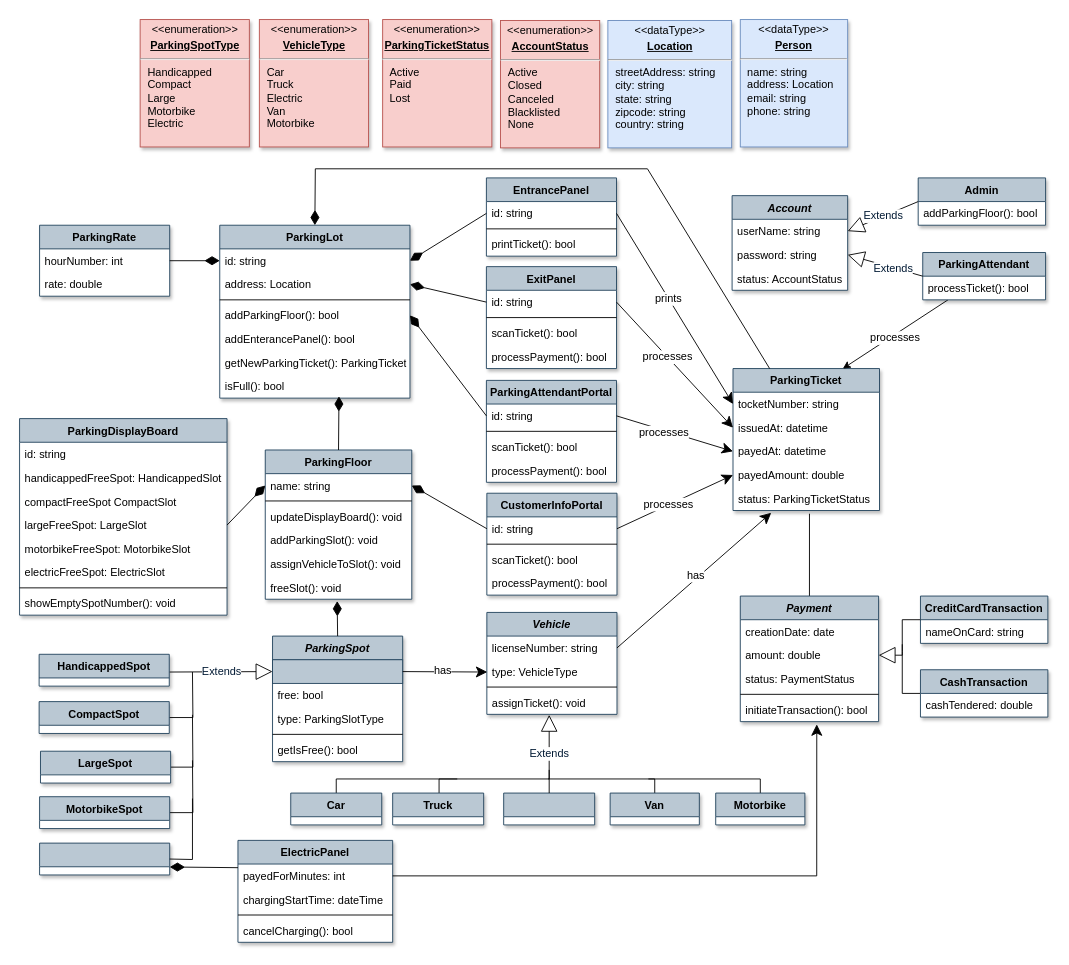
Image size: 1069x965. Some labels were removed from this diagram. The shapes that lost their labels are listed below. From the top down, each one's centre as x and y in pixels, then its label:
At (x=337, y=671): "number: string".
At (x=549, y=810): "Electric".
At (x=105, y=860): "ElectricSpot".
